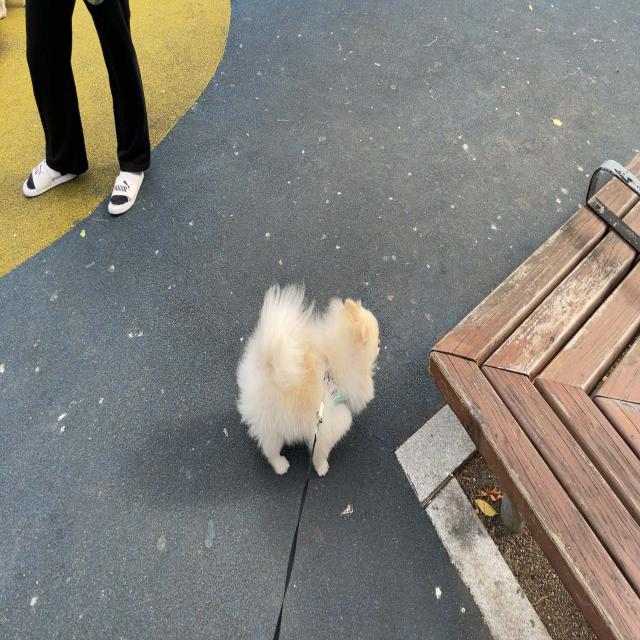Dog: (236, 282, 381, 474)
